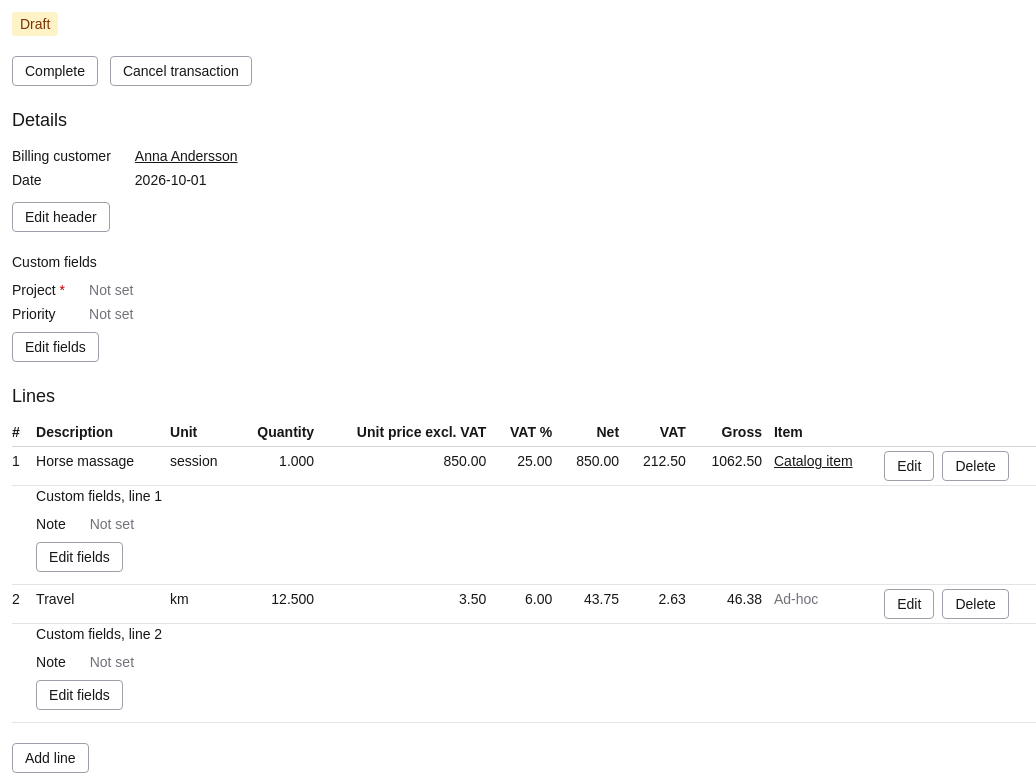
Test: failures › a locked record (409) is explained as 'no longer a draft' and the page refreshes into its read-only state
Click the button with test id "edit-fields" below "Custom fields, line 1": click(79, 557) 36,542 -> 123,572
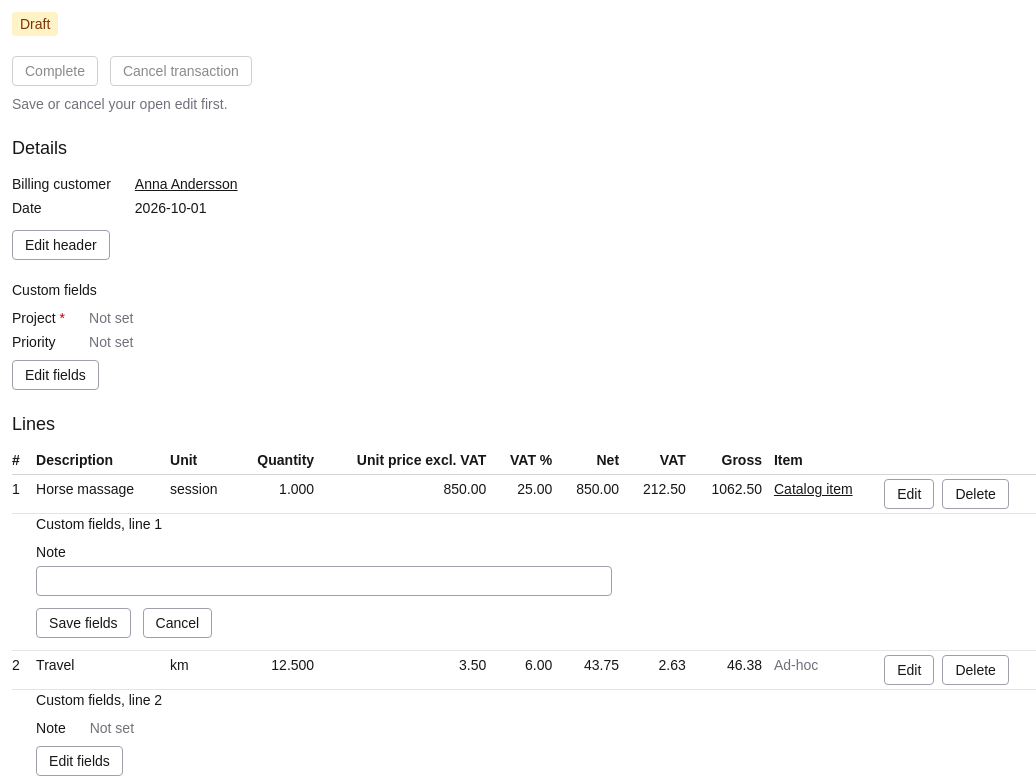
In the field labelled "Note": (324, 581) 36,566 -> 612,596, type "my draft"
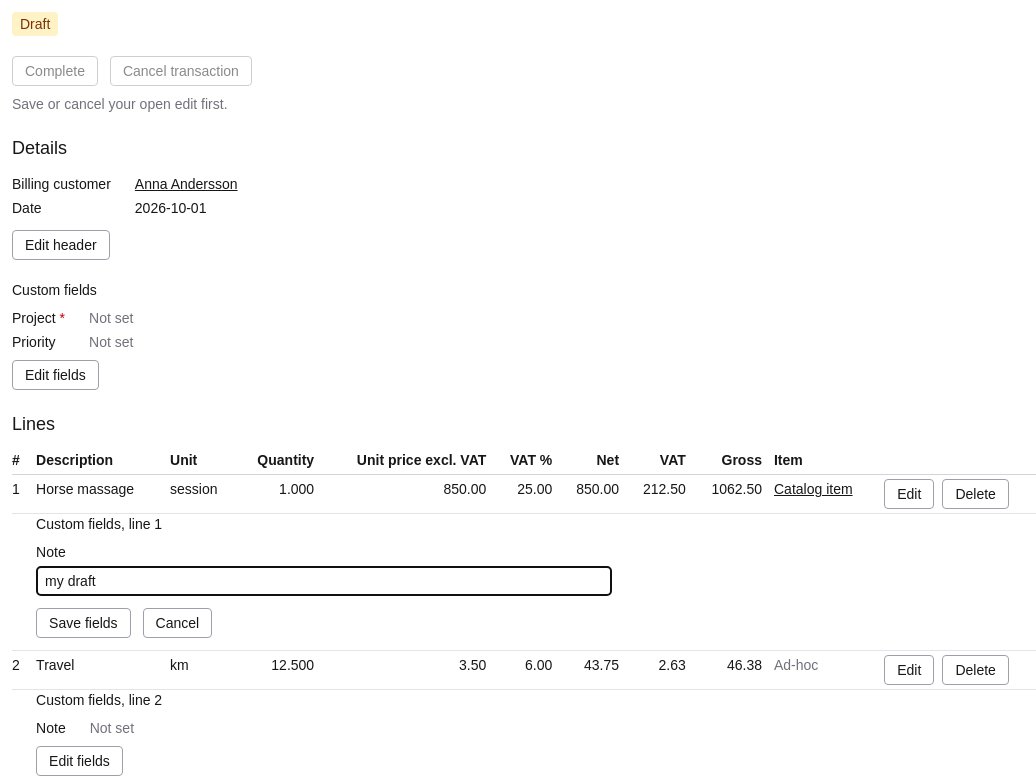
Click the button with test id "save-fields": click(83, 623) 36,608 -> 131,638
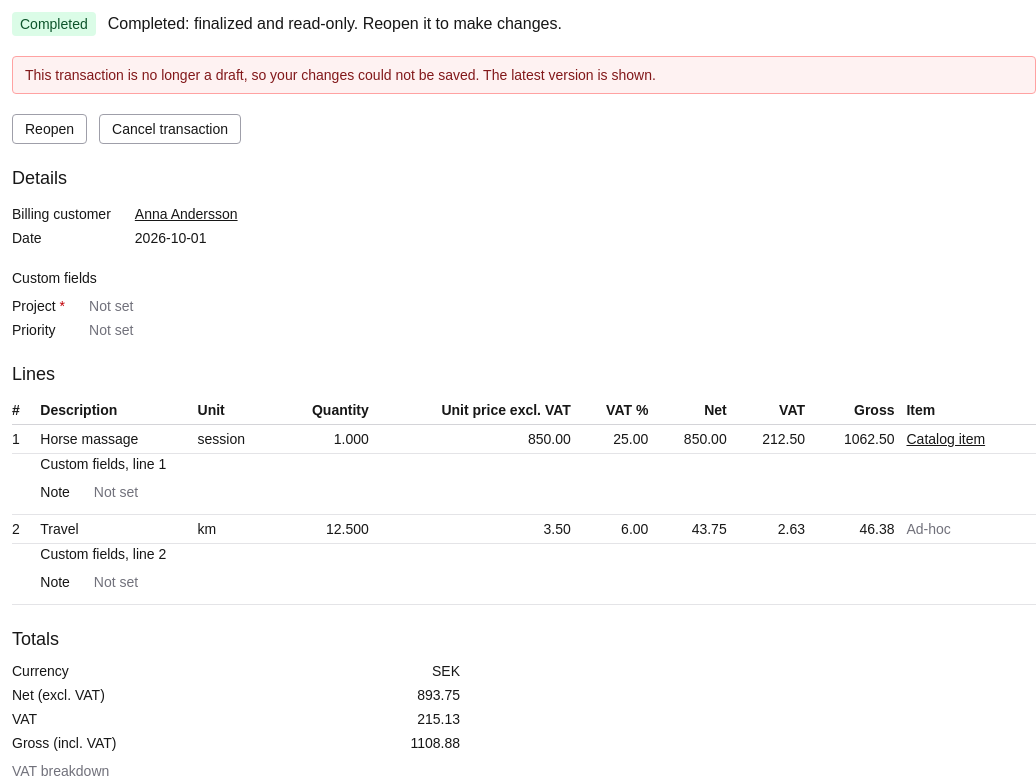
Now the message with test id "editor-notice" shows "no longer a draft, so your changes could not be saved", box 25,67 -> 656,83
Now the text with test id "tx-status" reads "Completed", box 20,16 -> 88,32
Now the form with test id "custom-fields-form" is gone
